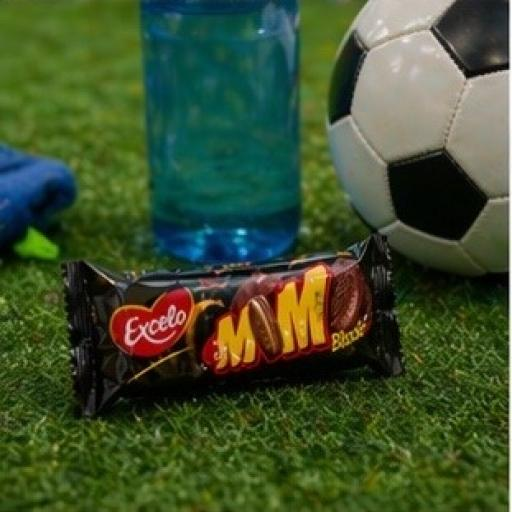MOMO: (22, 190, 444, 450)
